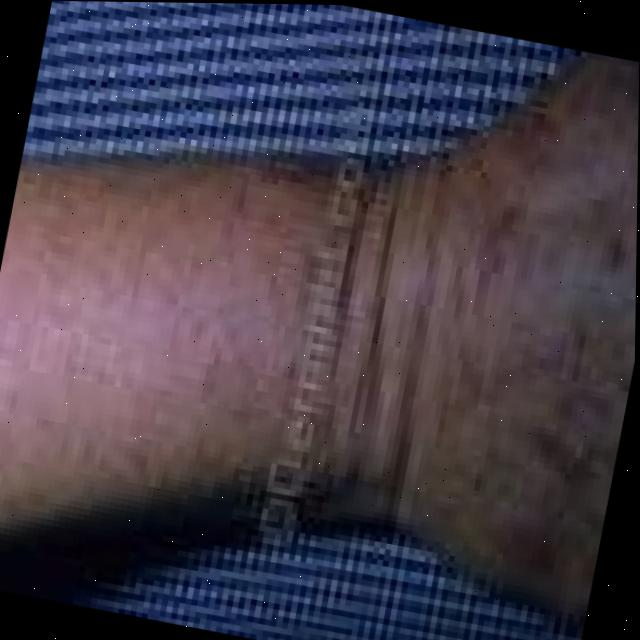Melasma: (457, 178, 637, 531)
